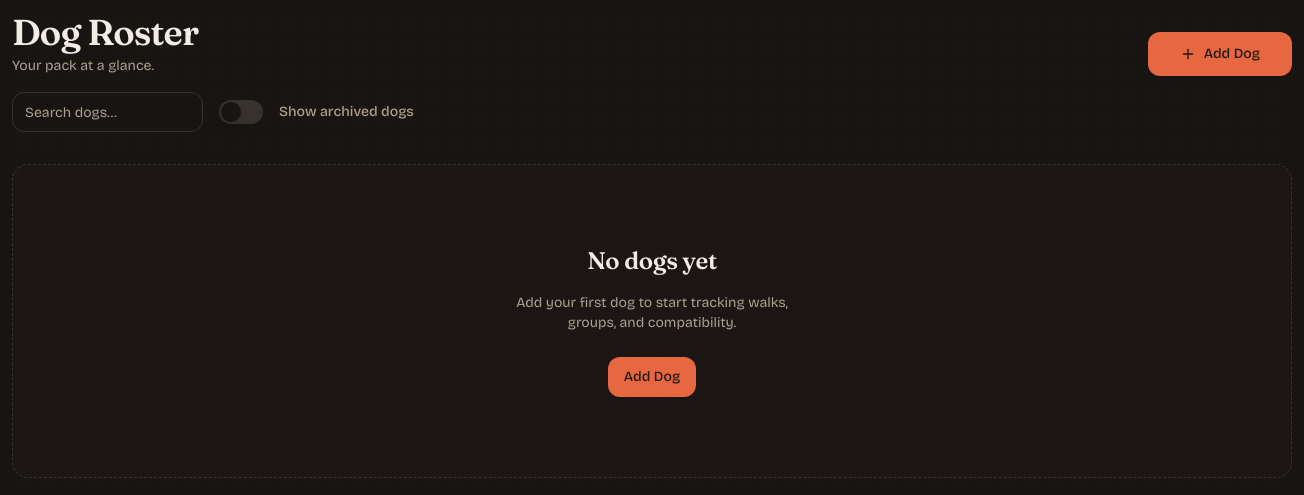
Test: DogRoster - Show archived toggle › enabling "Show archived dogs" toggle shows archived dogs
This screenshot has width=1304, height=495.
Expected: the text "Archie" is not shown
Click the switch named "show archived dogs" at (241, 112), box [219,100,263,124]
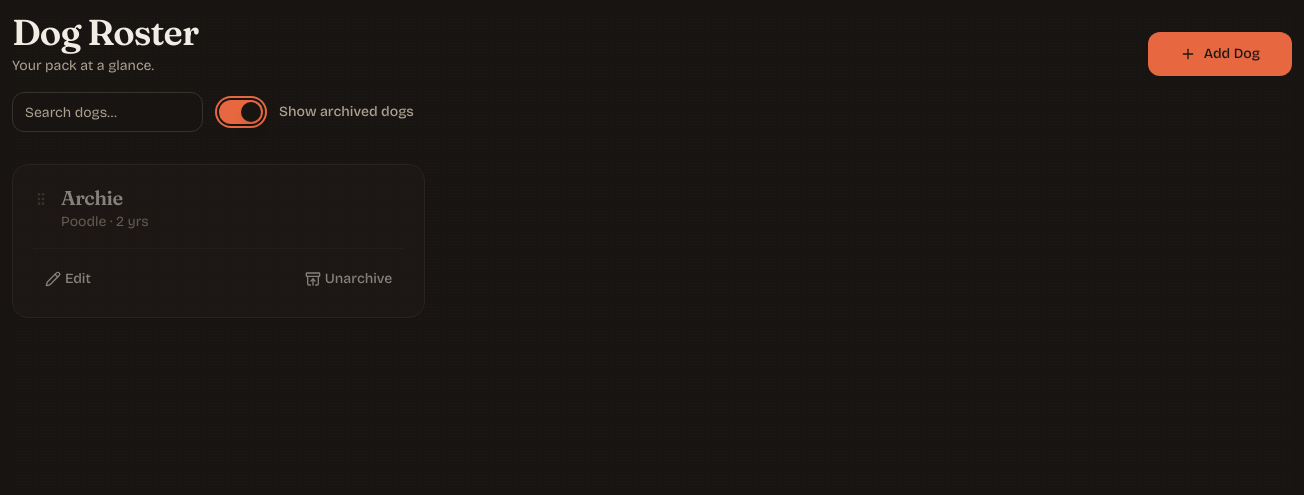
Expected: the heading "Archie" is shown, [61,185,123,210]
